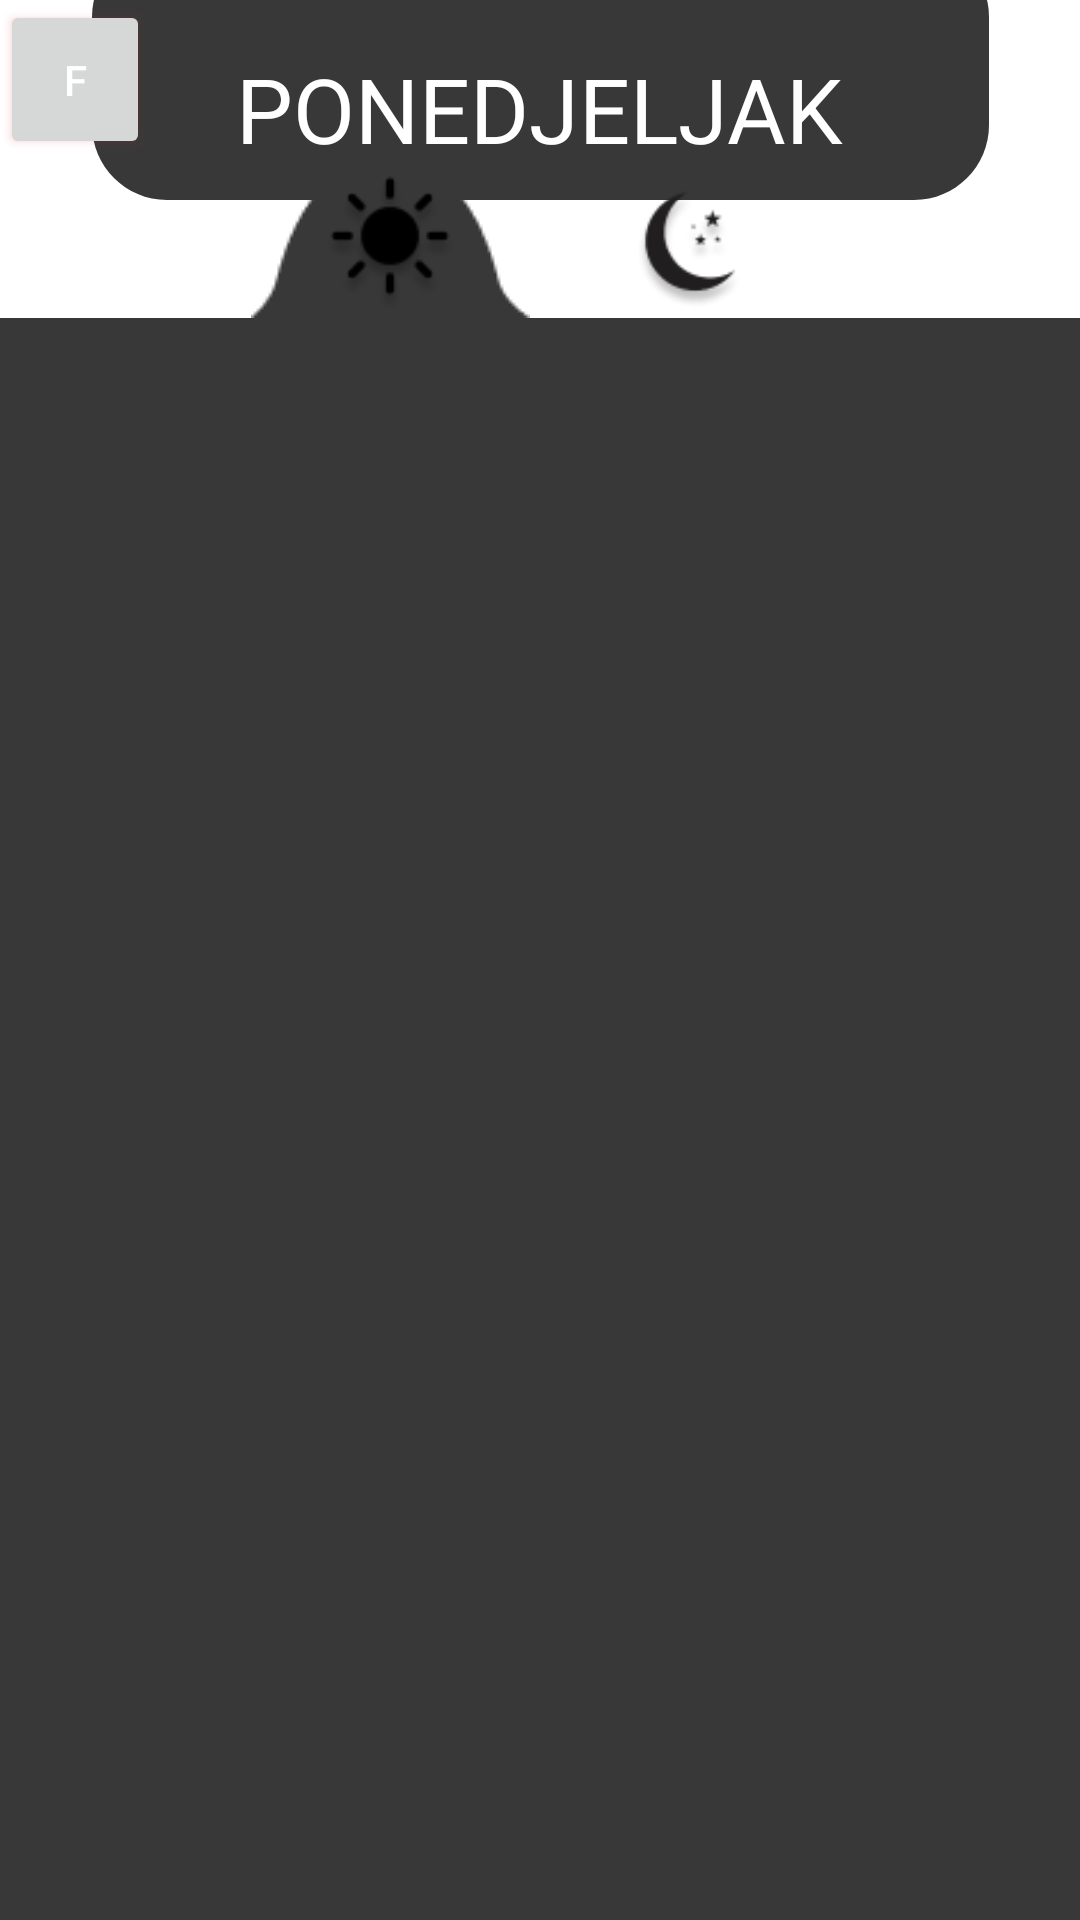

Screen size 1080×1920. Icon name, then its box in pixels as (x1, y1, x2, y2):
moon: (609, 198, 771, 318)
